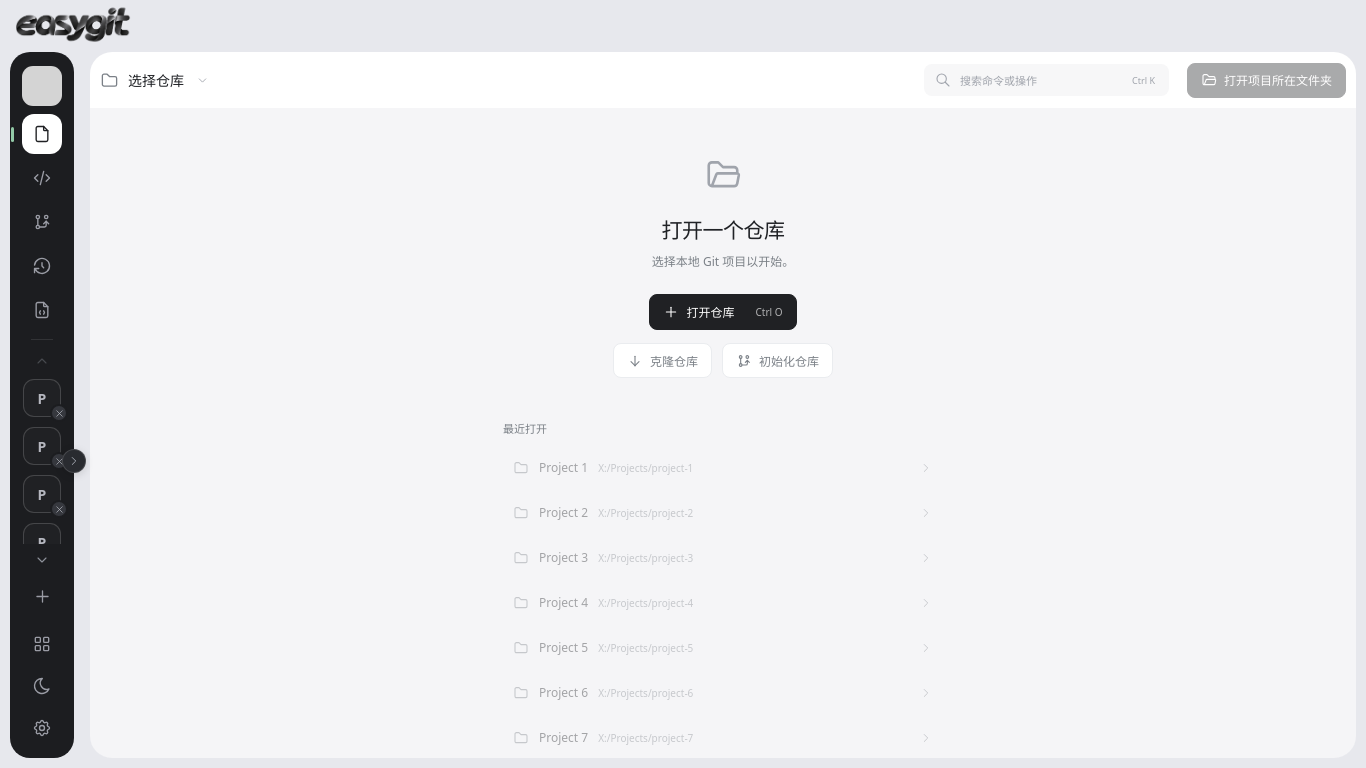
it: 侧栏项目展开区域 › 超过 6 个时在列表边缘提供展开入口，展开区归属同一侧栏并显示全部名称
expect the element showing "P P P P P P P P P" is shown: met, box [10,377,74,544]
Click the button named "展开项目列表". click: (74, 460)
box: [62,448,86,472]
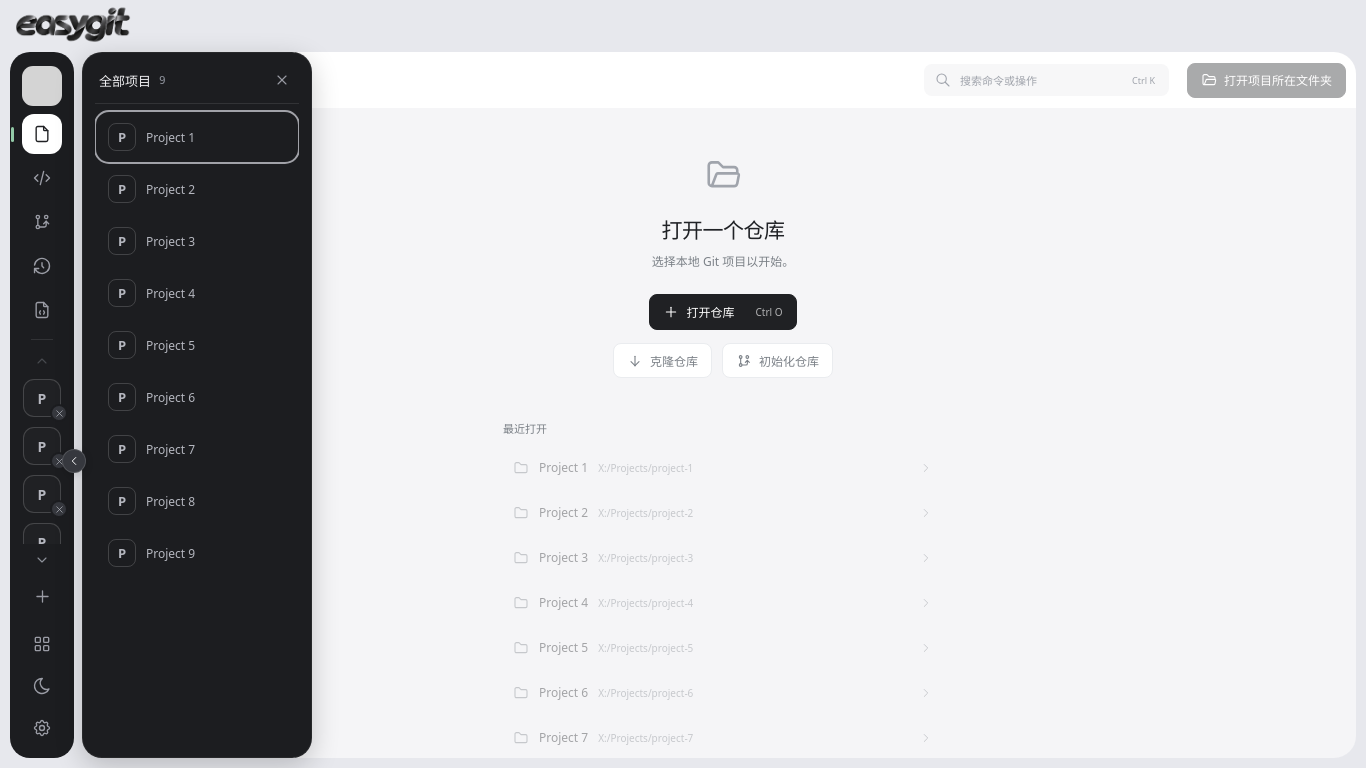
expect the number of buttons with class "repository-expanded-item" is 9: met
expect the element named "项目展开区域" shows "Project 9": met, box [98,530,296,576]
Click the button named "关闭项目展开区域". click: (282, 80)
box: [269,67,295,93]
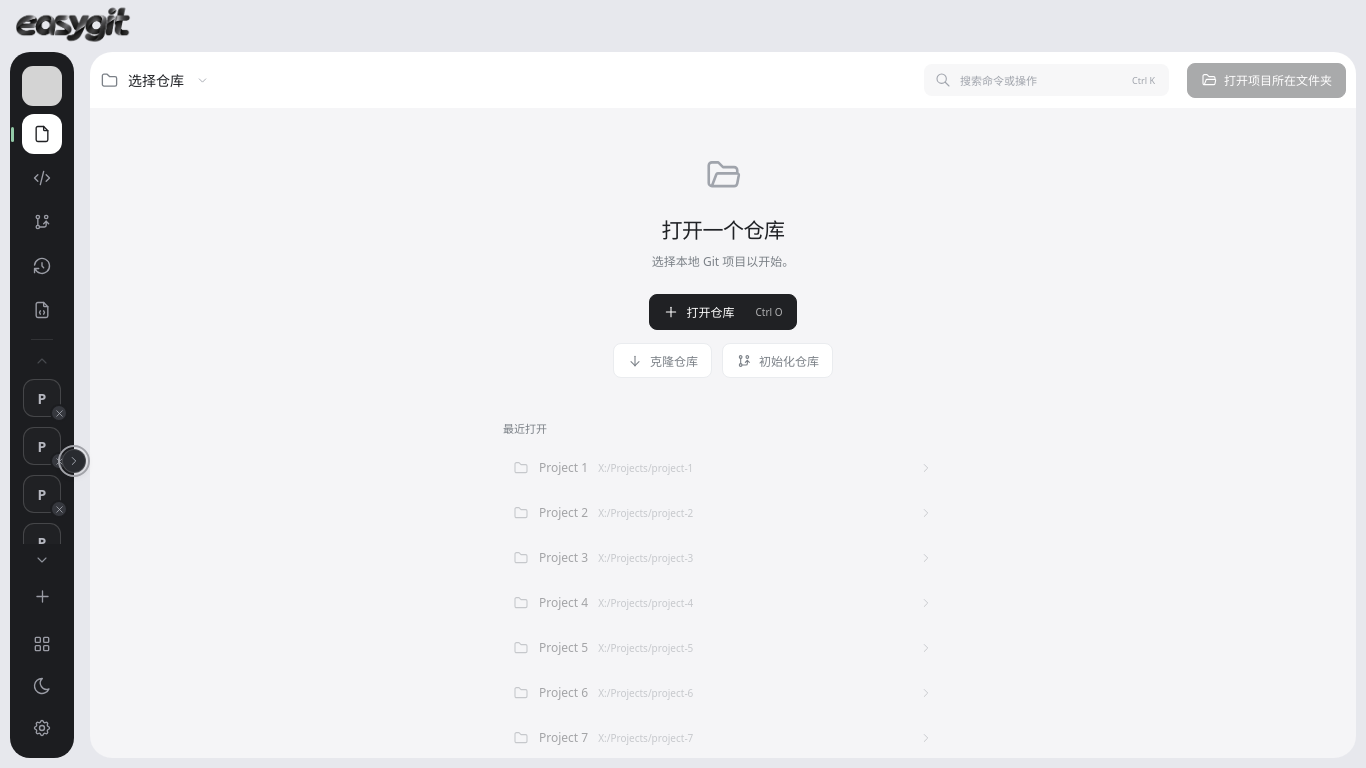
expect the element named "项目展开区域" is gone: met
